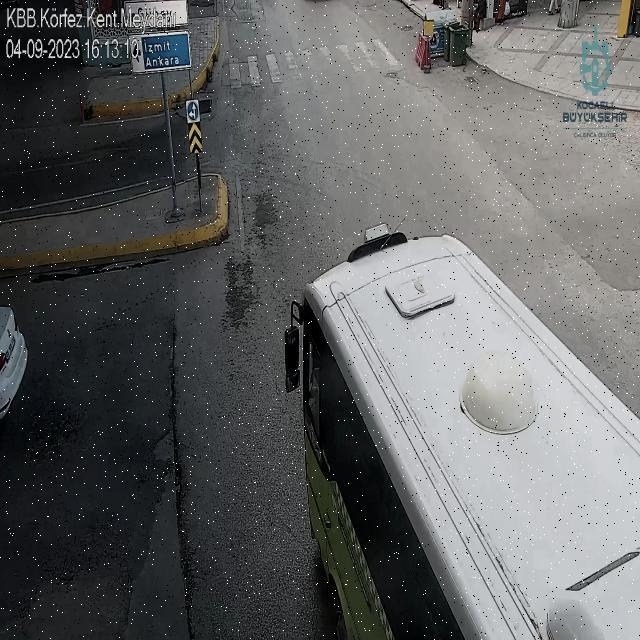Bus: (276, 220, 640, 640)
Car: (0, 272, 54, 444)
